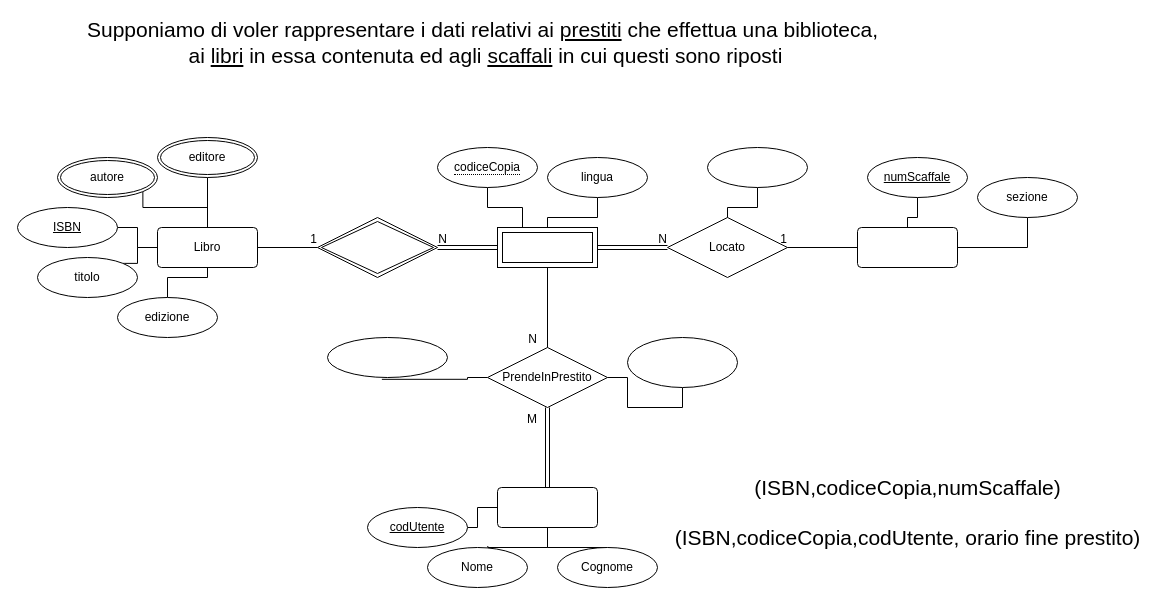
Image size: 1165x605. Some labels were removed from this diagram. The shapes that lost their labels are listed below. From the top down, each one's box as (x1, y1, x2, y2) in pixels, then its label:
(706, 146, 808, 188): posizione
(316, 216, 438, 278): Ha
(496, 226, 598, 268): CopiaLibro
(856, 226, 958, 268): Scaffale
(326, 336, 448, 378): orarioInizioPrestito
(626, 336, 738, 388): orarioFinePrestito
(496, 486, 598, 528): utente
